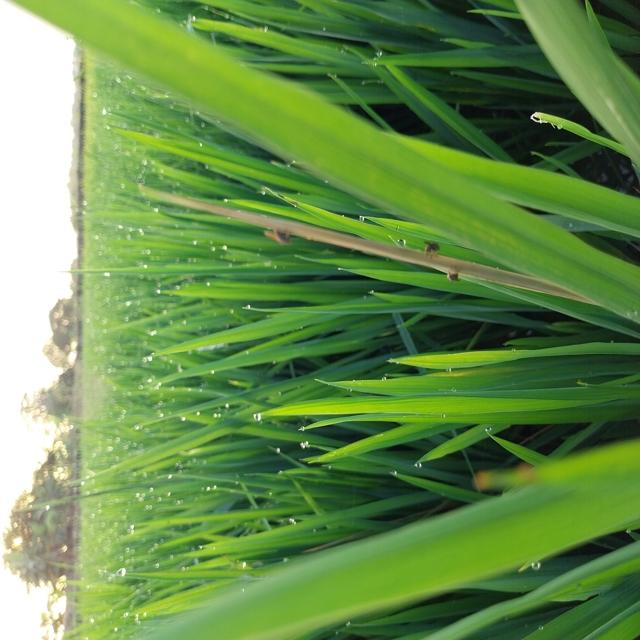healthy: (412, 216, 466, 292), (249, 211, 304, 257)
